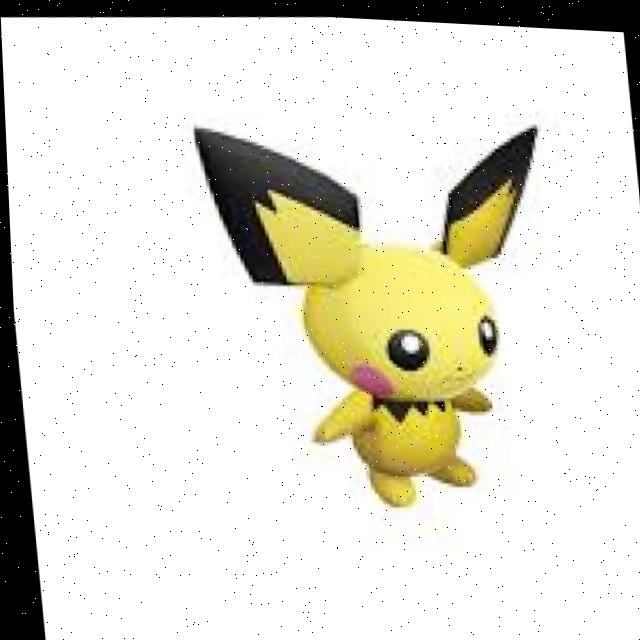pichu: (225, 91, 599, 514)
